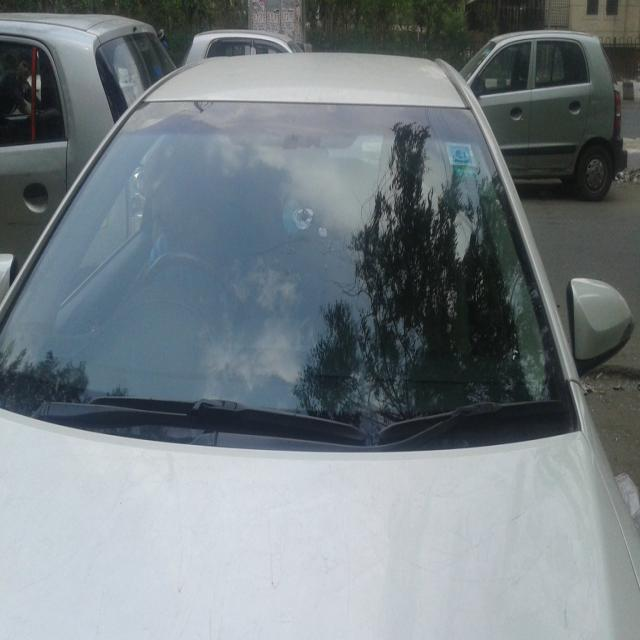Glass_Break: (280, 192, 330, 246)
